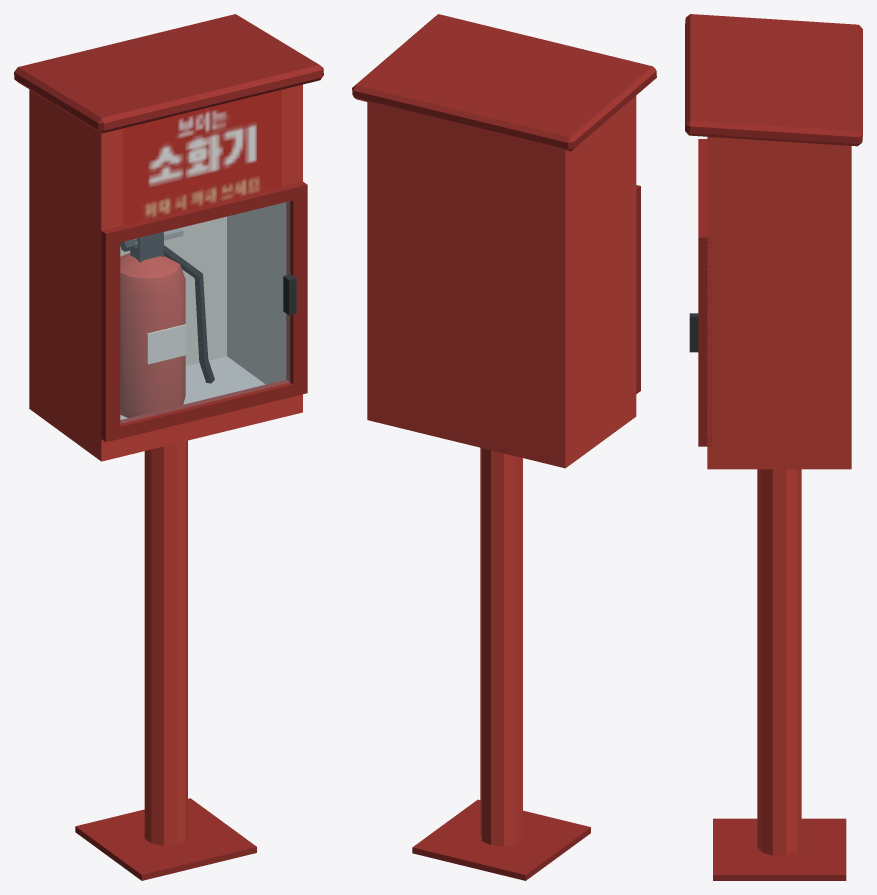
File: SC_Util_Extinguisher_Cabinet_Street.gltf
3 views of the same model, side by side, from view 1: azimuth 30°, elevation 25°; view 2: azimuth 150°, elevation 25°; view 3: azimuth 270°, elevation 25° (orthographic).
Parts seen in each view (by area): view 1: SC_Util_Extinguisher_Cabinet_Street; view 2: SC_Util_Extinguisher_Cabinet_Street; view 3: SC_Util_Extinguisher_Cabinet_Street.
Boxes of the visible parts, x1,y1,x2,y2 form: SC_Util_Extinguisher_Cabinet_Street: (14,14,323,880); SC_Util_Extinguisher_Cabinet_Street: (352,14,656,880); SC_Util_Extinguisher_Cabinet_Street: (685,14,862,880).
Bounding box in the file's own units: 0.47 × 1.56 × 0.3202.
Materials: 3 (3 with a texture image).
